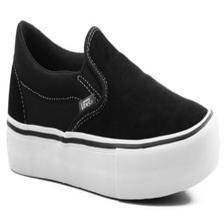Hand: (1, 32, 121, 221), (132, 2, 216, 218)
